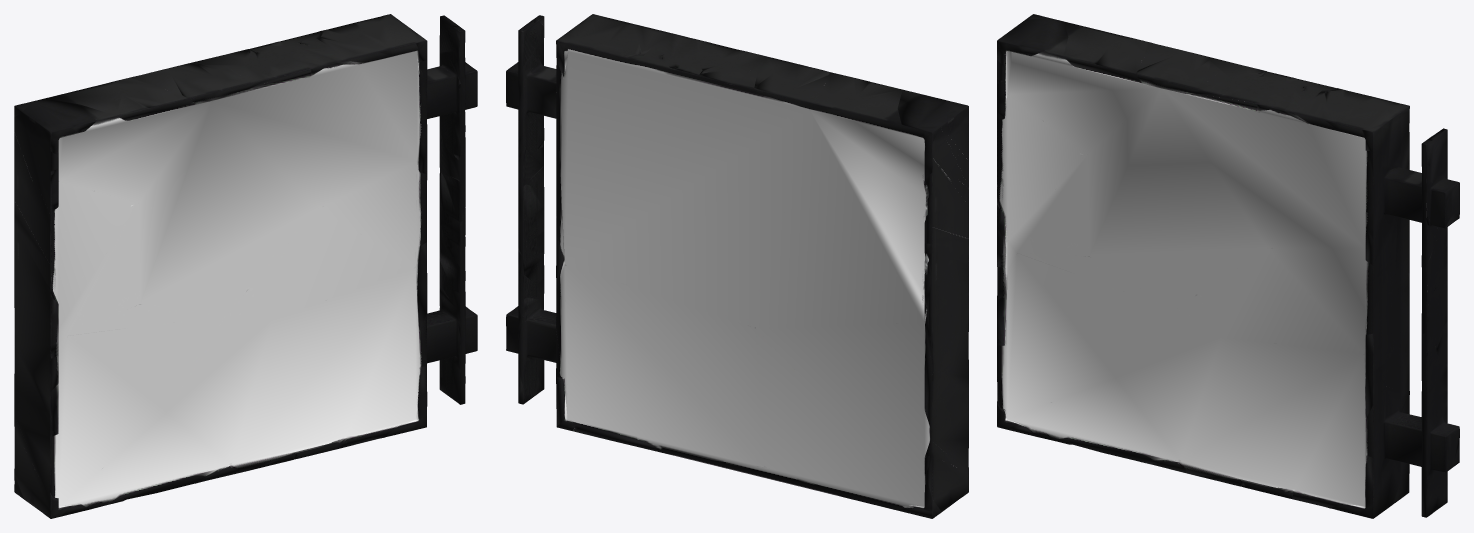
File: signboard.glb
3 renders of one model, left to right at view 1: azimuth 30°, elevation 25°; view 2: azimuth 150°, elevation 25°; view 3: azimuth 330°, elevation 25°, orthographic.
Size of the model in its own units: 1.91 by 1.61 by 0.2781.
Materials: 1 (1 with a texture image).
